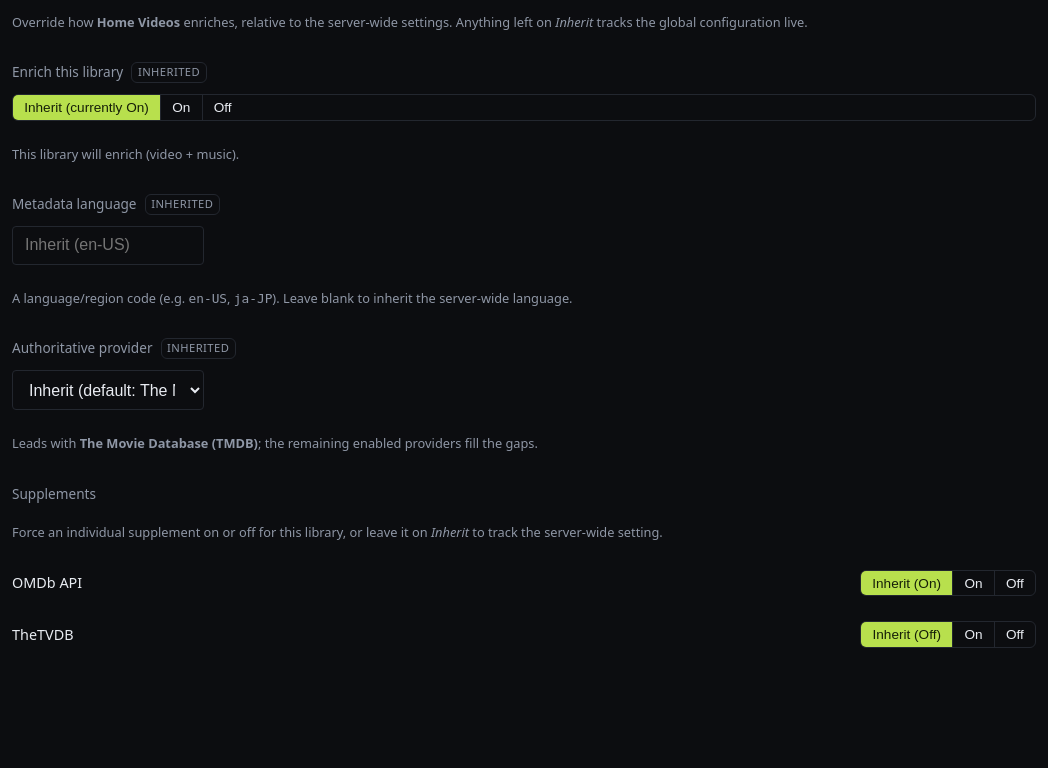
EnrichmentPolicyPanel › picking an authoritative PUTs the slug and shows Overridden + reset
Select "OMDb API" in the dropdown with test id "authoritative-select" at (108, 390), box [12,370,204,410]
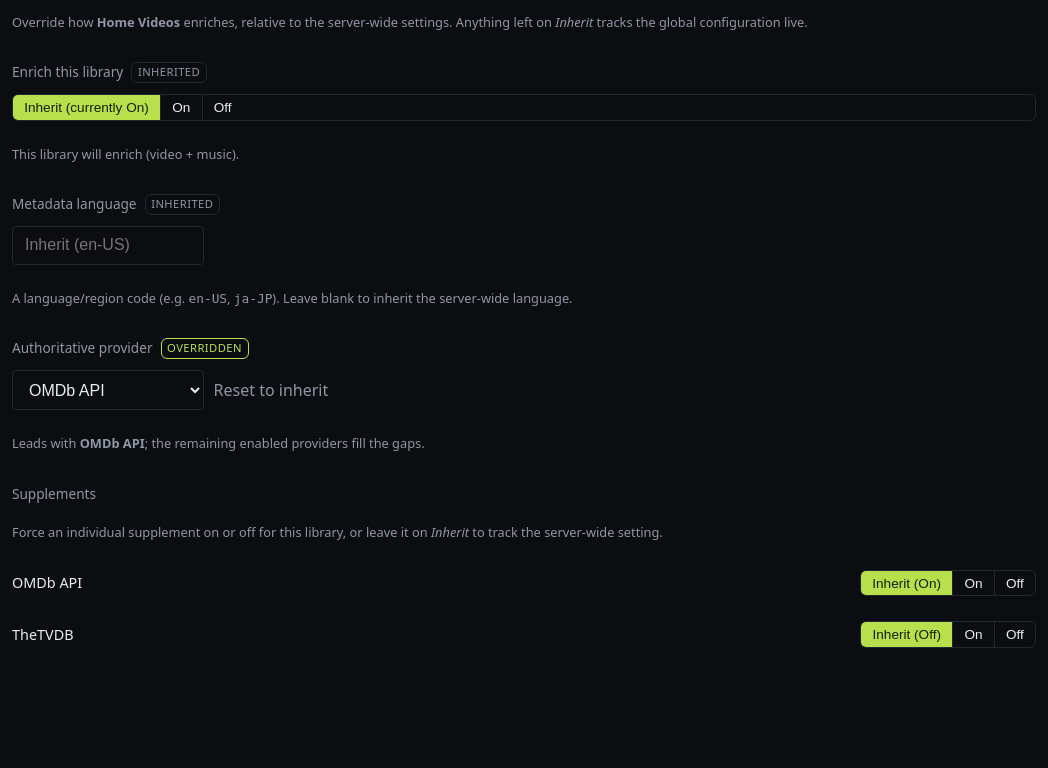
Expected: the element with test id "authoritative-control" shows "Overridden", [167,340,242,355]
Expected: the button with test id "authoritative-reset" is shown, [214,378,328,402]
Expected: the element with test id "authoritative-effective" reads "Leads with OMDb API; the remaining enabled providers fill the gaps.", [12,434,425,452]
